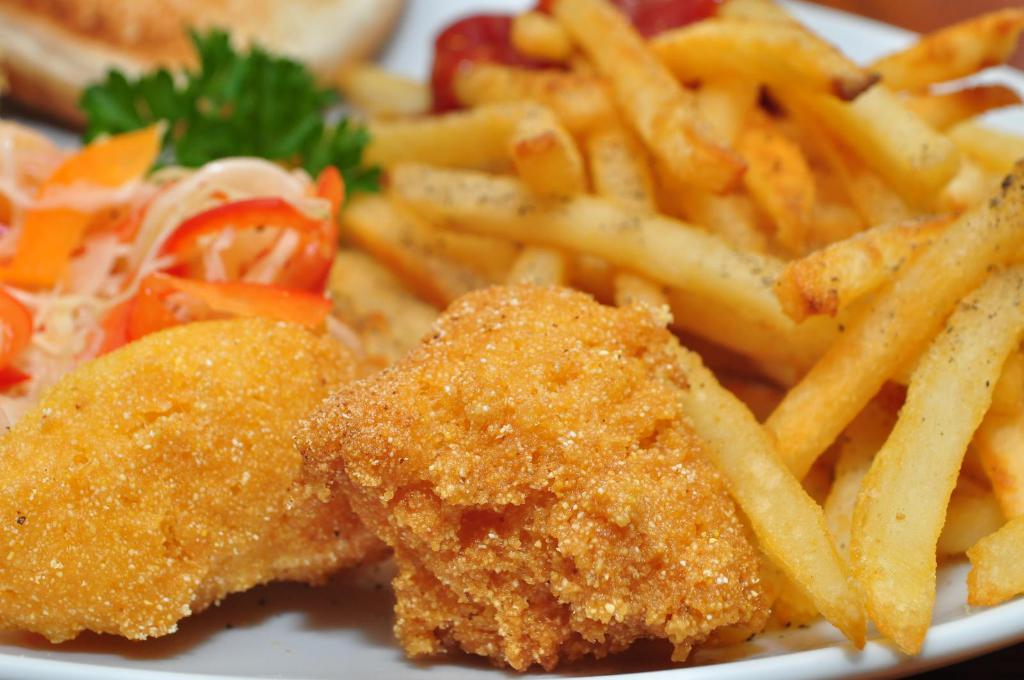French fries: (345, 0, 1020, 660)
